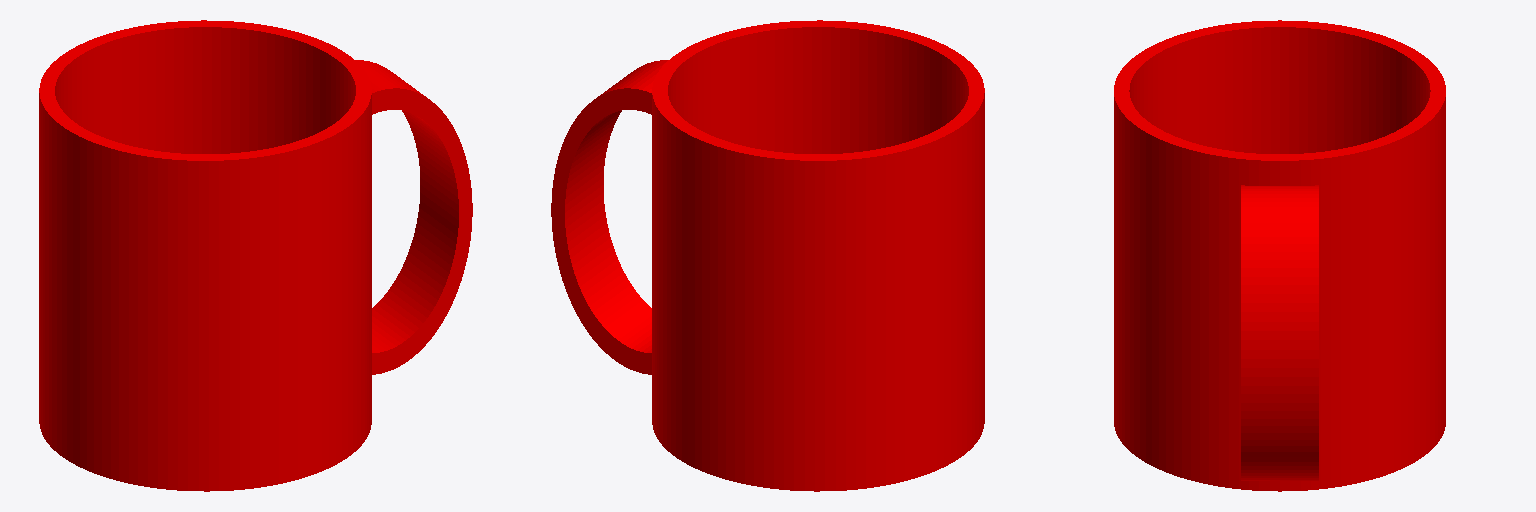
URDF robot description (mug.urdf):
<?xml version="1.0" ?>
<robot name="mug.urdf">
  <link name="baseLink">
    <inertial>
      <origin rpy="0 0 0" xyz="0 0 0"/>
       <mass value=".1"/>
       <inertia ixx="1" ixy="0" ixz="0" iyy="1" iyz="0" izz="1"/>
    </inertial>
    <visual>
      <origin rpy="0 0 0" xyz="0 0 0"/>
      <geometry>
        <mesh filename="9.stl" scale="1 1 1" />
      </geometry>
      <material name="red">
        <color rgba="1 0 0 1"/>
      </material>
    </visual>
    <collision>
      <origin rpy="0 0 0" xyz="0 0 0"/>
      <geometry>
        <mesh filename="9_convex.obj" scale="1 1 1" />
      </geometry>
    </collision>
  </link>
</robot>

--- Facts derived from the render (not from the file) ---
3 views of the same robot in one strip: view 1: azimuth 30°, elevation 25°; view 2: azimuth 150°, elevation 25°; view 3: azimuth 270°, elevation 25° (orthographic).
Model mug.urdf with 1 links and 0 joints (none), rooted at baseLink, posed all joints at 0.
Links seen in each view (by area): view 1: baseLink; view 2: baseLink; view 3: baseLink.
Boxes of the visible links, x1,y1,x2,y2 form: baseLink: [39, 20, 472, 491]; baseLink: [551, 20, 984, 491]; baseLink: [1114, 20, 1445, 491].
Size in the robot's own frame: 0.1444 by 0.1061 by 0.1164 metres.
Meshes: 1 distinct files referenced, 1 mesh visuals loaded (1 binary STL).